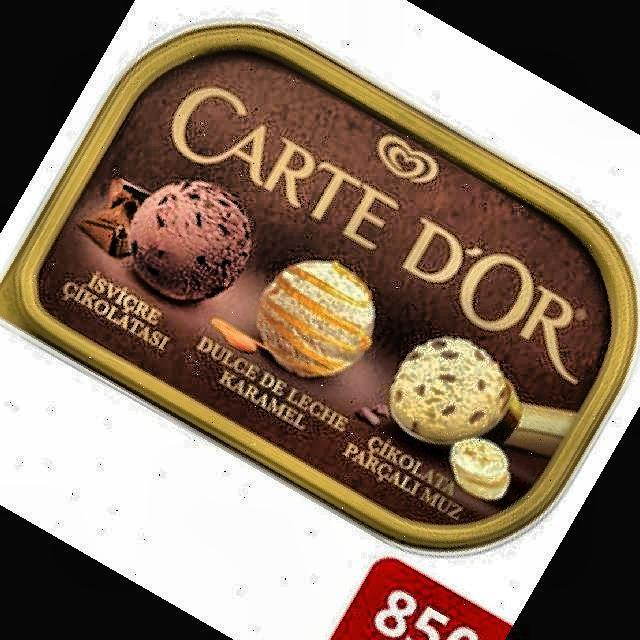plastic: (0, 25, 635, 547)
